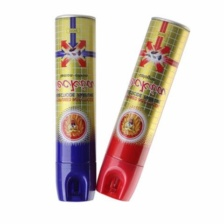aerosol_cans: (92, 13, 194, 205), (53, 10, 98, 207)
